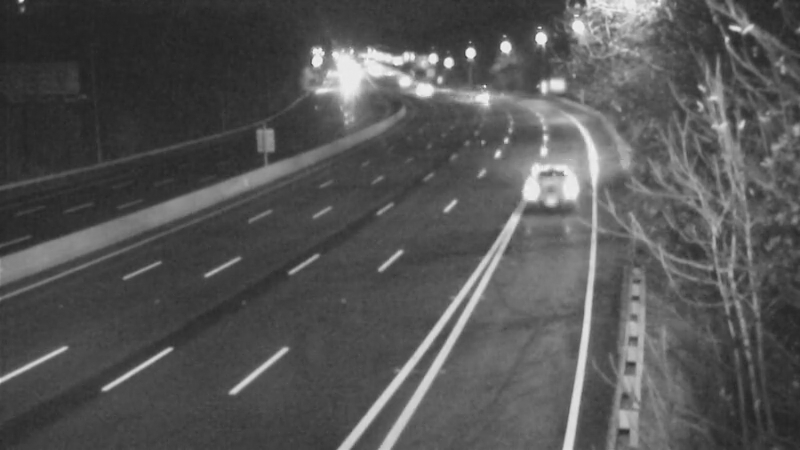vehicle: (512, 136, 592, 216), (380, 60, 430, 110), (398, 67, 448, 117), (460, 69, 510, 119)
